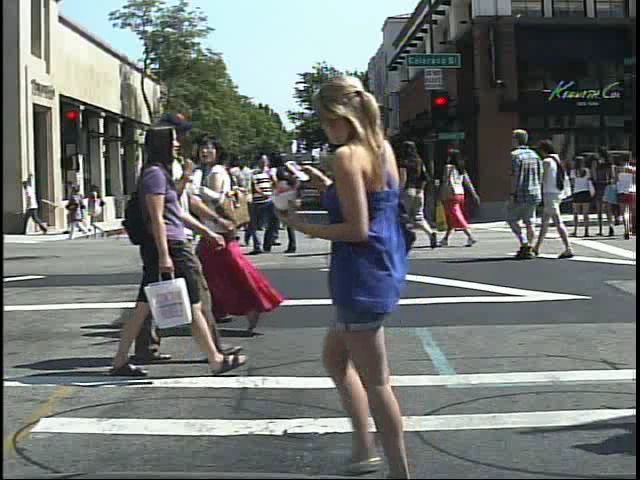person: (294, 71, 494, 479), (110, 109, 235, 383), (166, 106, 235, 367), (194, 133, 276, 339), (195, 133, 239, 334), (394, 134, 443, 261), (504, 124, 547, 261), (338, 137, 383, 258), (224, 139, 267, 261), (536, 134, 576, 263), (445, 145, 489, 256), (246, 149, 287, 249), (175, 155, 214, 251), (208, 152, 245, 251), (566, 148, 599, 241), (267, 150, 294, 257), (153, 173, 173, 241), (69, 182, 89, 232)
